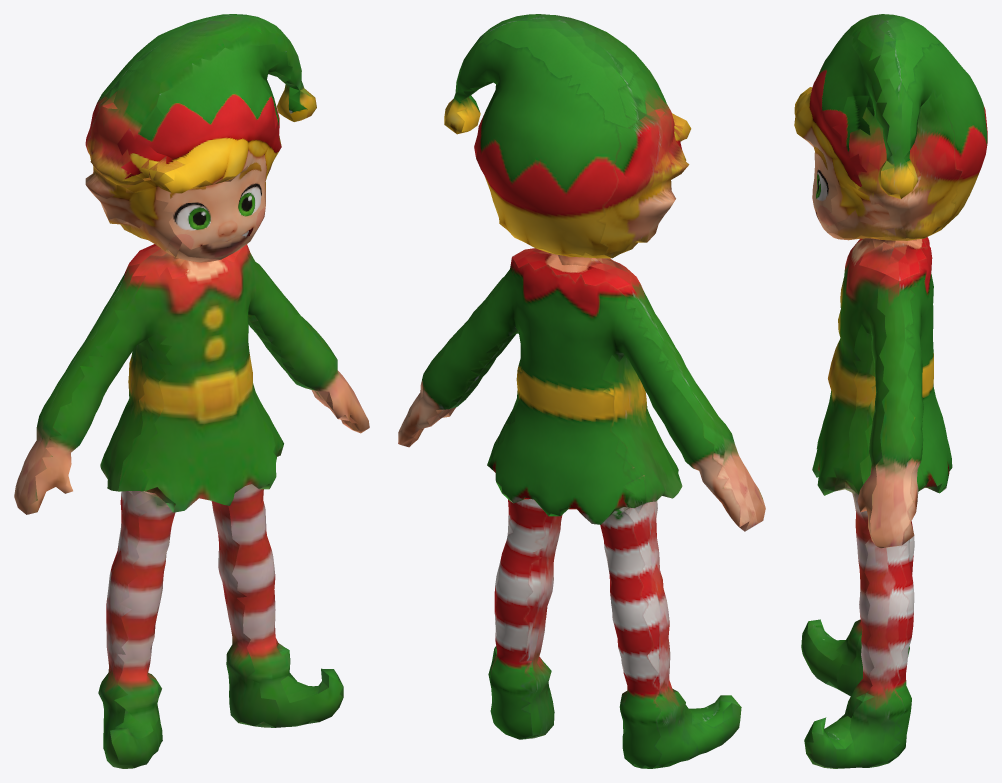
File: elfy-toon-x5.glb
3 renders of one model, left to right at view 1: azimuth 30°, elevation 25°; view 2: azimuth 150°, elevation 25°; view 3: azimuth 270°, elevation 25°, orthographic. The views are drawn at different scales.
Parts seen in each view (by area): view 1: world; view 2: world; view 3: world.
Part boxes in pixels (<box>): world: <box>14,14,369,768</box>; world: <box>398,14,765,768</box>; world: <box>794,14,987,768</box>.
Size of the model in its own units: 2.47 by 4.81 by 1.18.
Materials: 1 (1 with a texture image).
